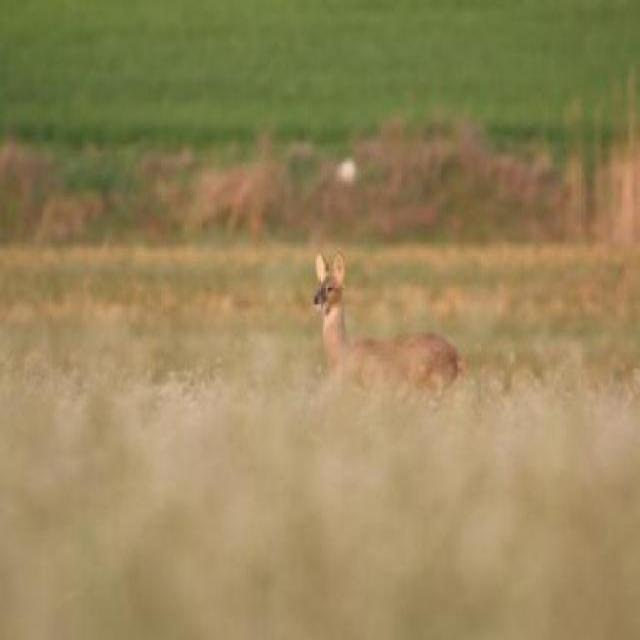deer: (292, 235, 480, 413)
